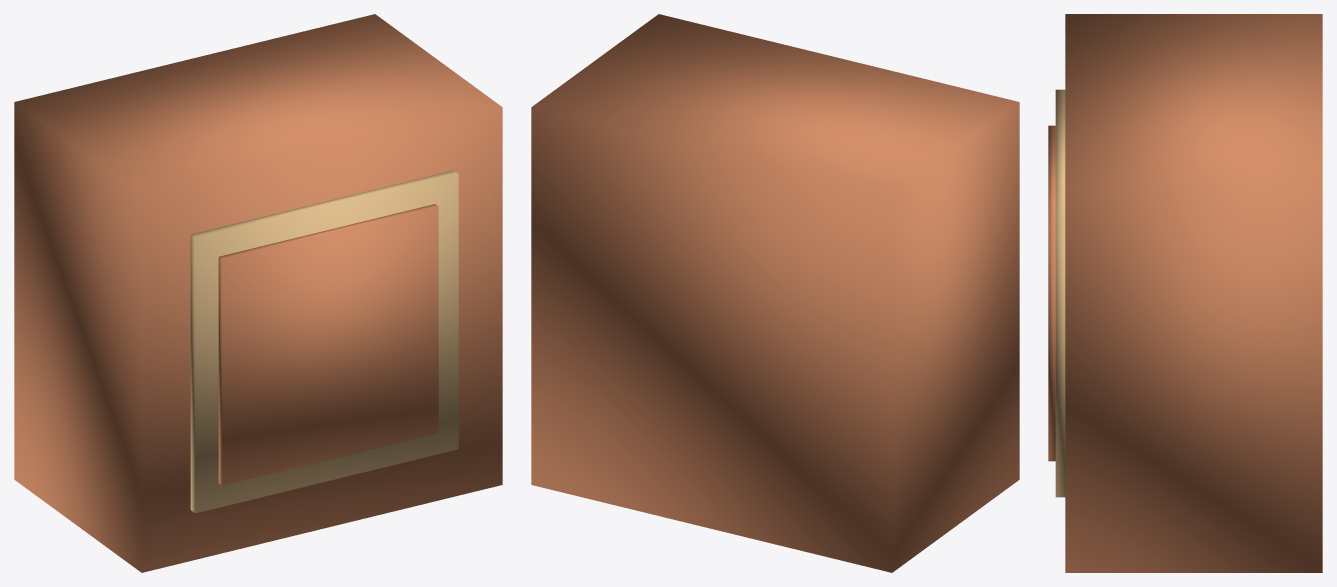
File: material-wooden-block.glb
3 views of the same model, side by side, from view 1: azimuth 30°, elevation 25°; view 2: azimuth 150°, elevation 25°; view 3: azimuth 270°, elevation 25° (orthographic).
Parts seen in each view (by area): view 1: Solid block, Painted inset, Inset face; view 2: Solid block; view 3: Solid block, Inset face, Painted inset.
Boxes of the visible parts, x1,y1,x2,y2 form: Solid block: (14,14,502,572); Painted inset: (218,204,438,485); Inset face: (190,170,458,513); Solid block: (531,14,1019,572); Solid block: (1065,14,1322,572); Inset face: (1055,89,1065,497); Painted inset: (1048,125,1055,461).
Size of the model in its own units: 0.85 by 0.85 by 0.554.
